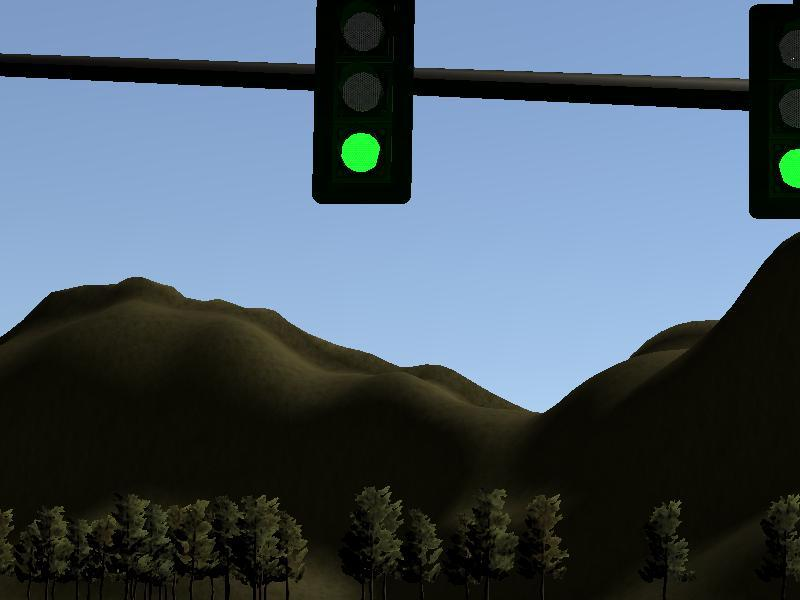Green: (314, 1, 411, 203), (749, 3, 800, 219)
